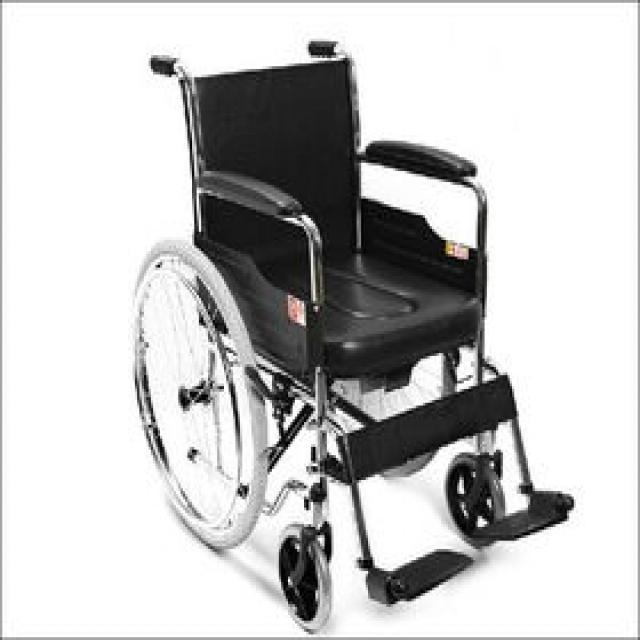wheelchair: (112, 33, 587, 632)
